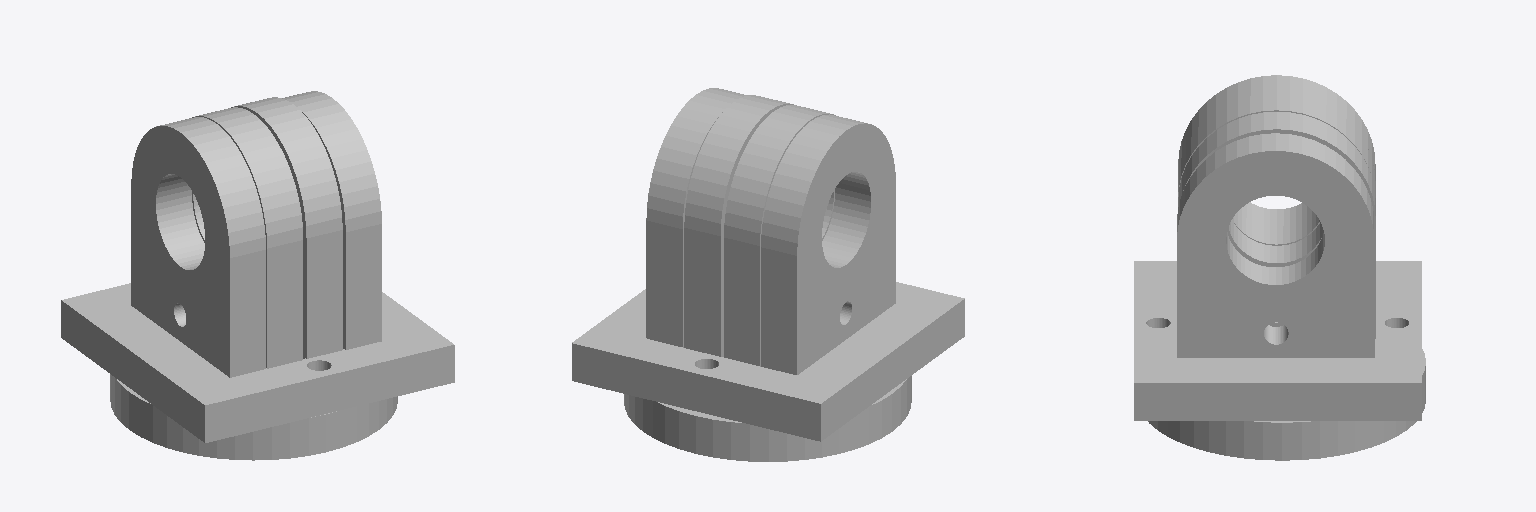
File: GfinalS4.obj
The picture shows the model from 3 angles: view 1: azimuth 30°, elevation 25°; view 2: azimuth 150°, elevation 25°; view 3: azimuth 270°, elevation 25°; orthographic projection.
Visible parts, largest first — view 1: Mesh.008_Mesh.002_Mesh.002_Mes; view 2: Mesh.008_Mesh.002_Mesh.002_Mes; view 3: Mesh.008_Mesh.002_Mesh.002_Mes.
Part boxes in pixels (bbox=[...]): Mesh.008_Mesh.002_Mesh.002_Mes: bbox=[61, 91, 454, 460]; Mesh.008_Mesh.002_Mesh.002_Mes: bbox=[572, 88, 964, 461]; Mesh.008_Mesh.002_Mesh.002_Mes: bbox=[1134, 75, 1425, 460].
Bounding box in the file's own units: 1.39 × 1.52 × 1.4.